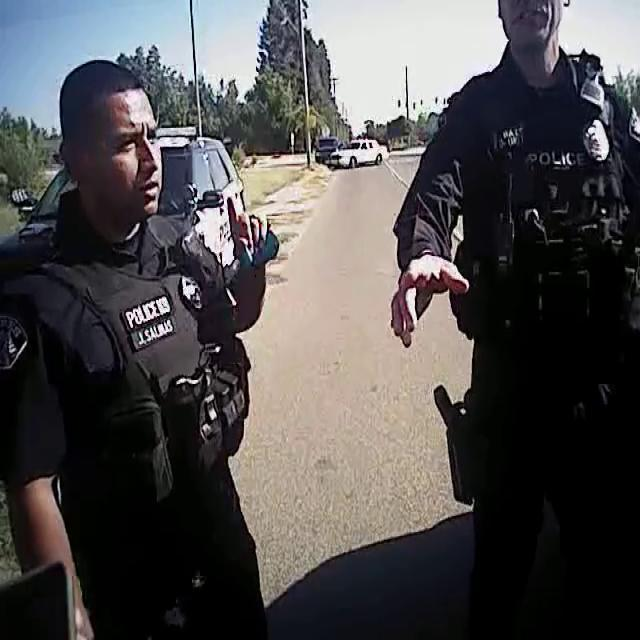gun: (426, 363, 479, 533)
